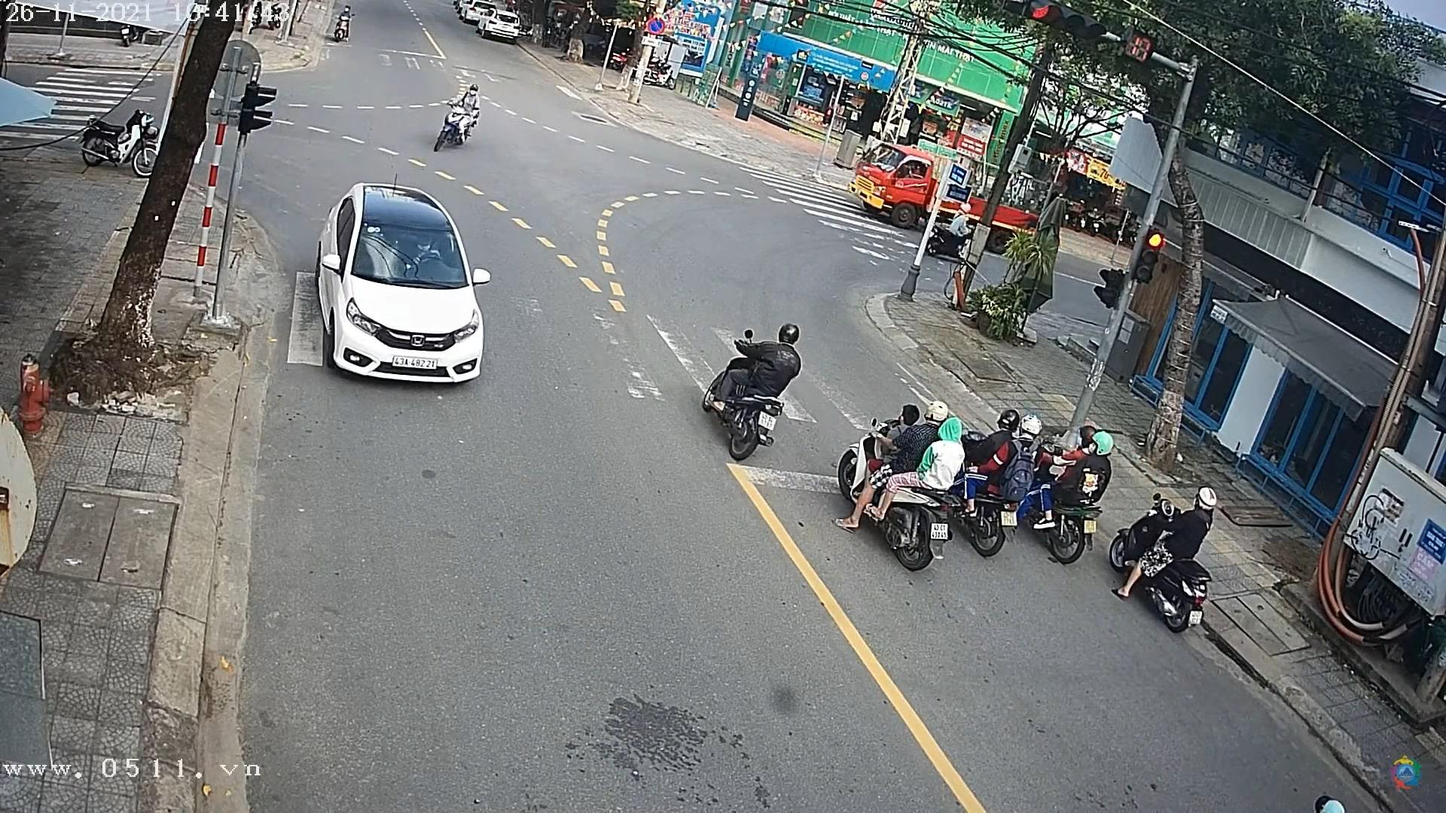car: (313, 187, 490, 384)
motorbike: (834, 420, 951, 579), (1098, 492, 1215, 642), (706, 345, 789, 469), (432, 93, 481, 154)
truck: (853, 126, 1042, 265)
